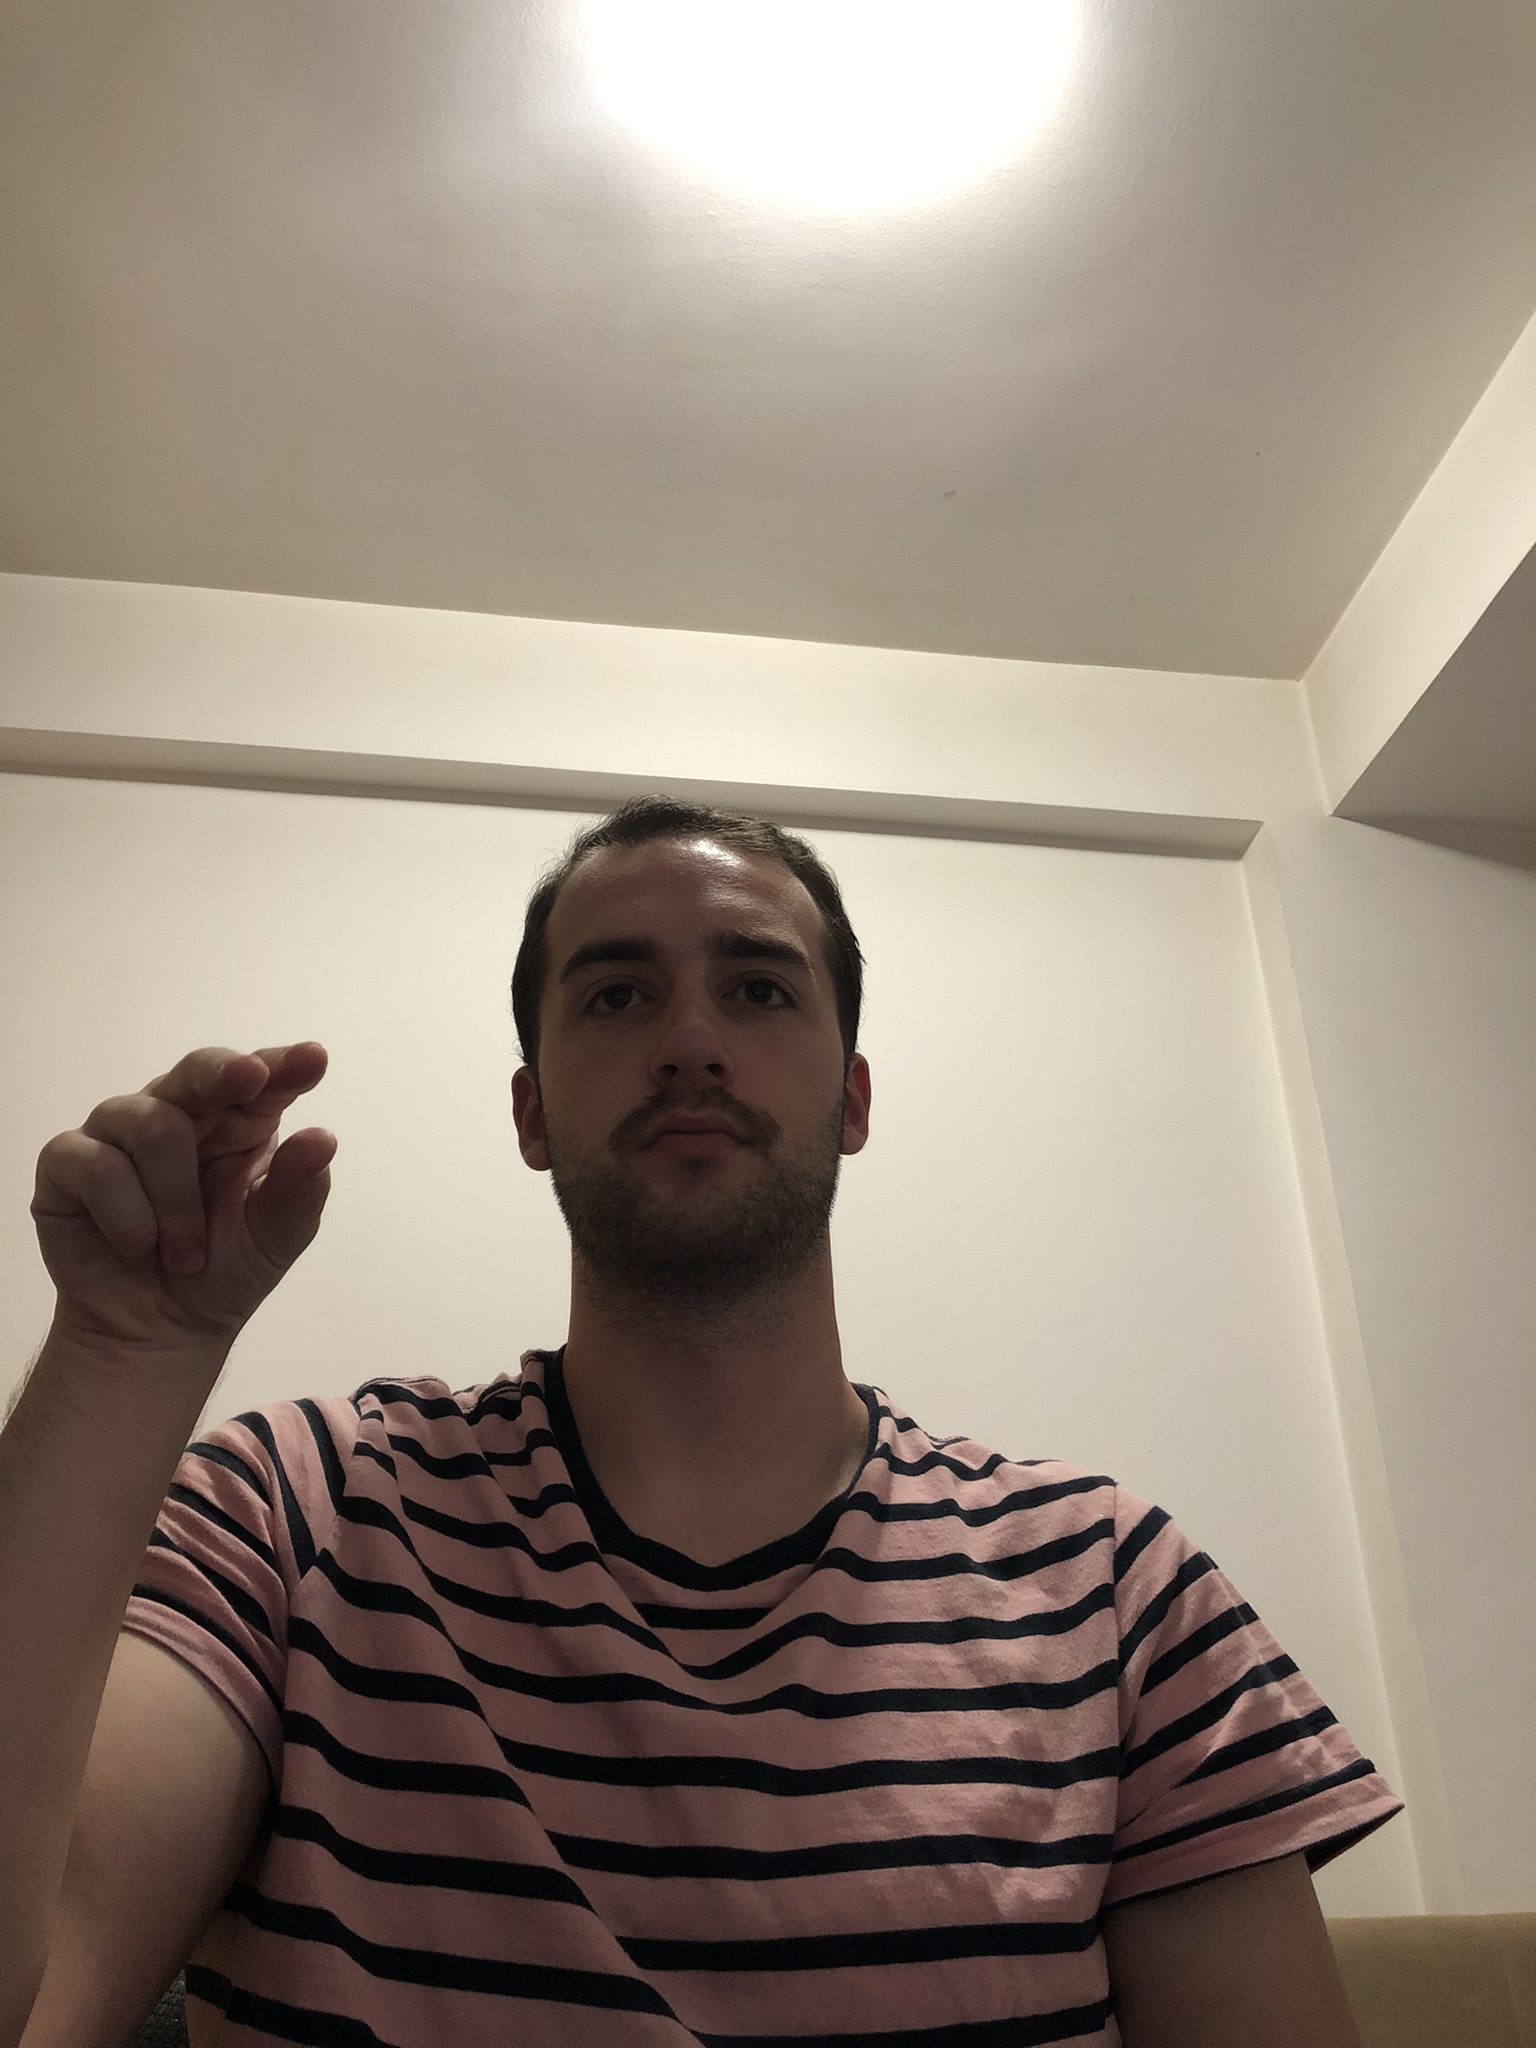No: (23, 1029, 357, 1372)
